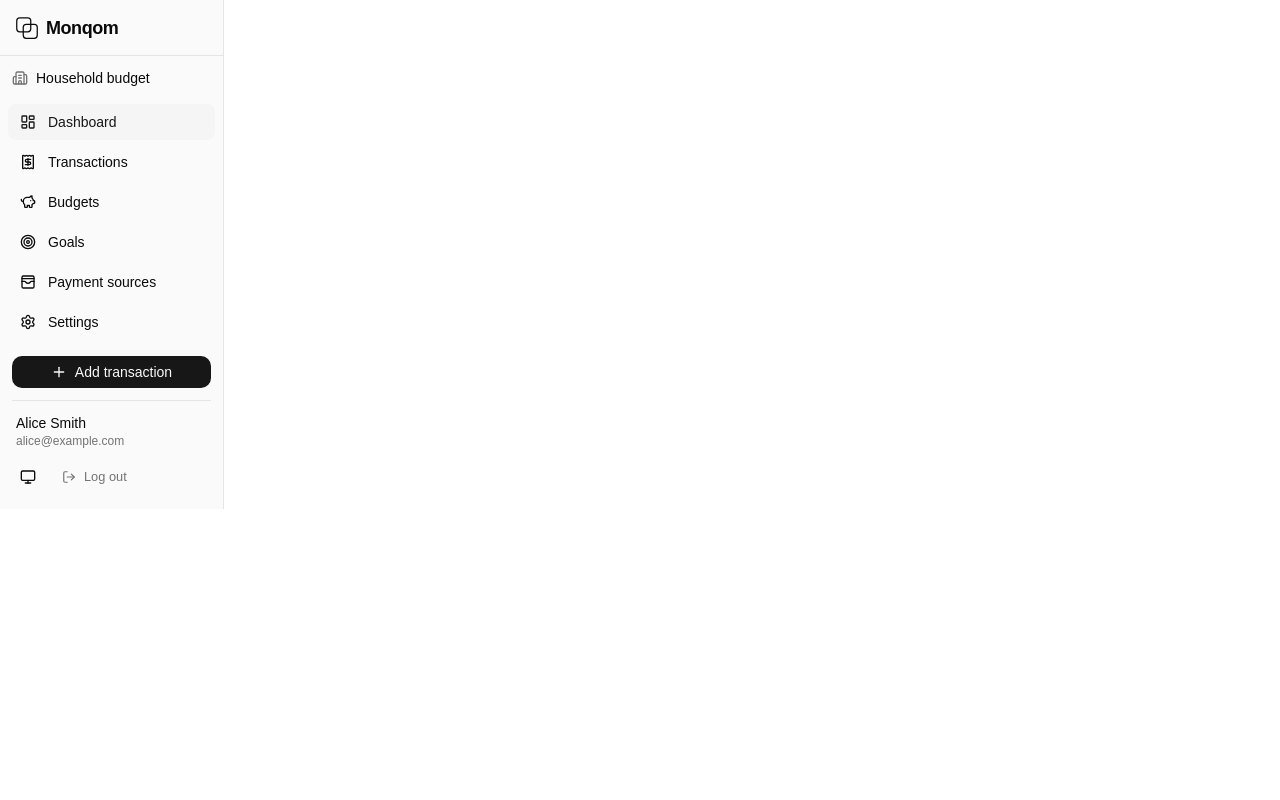
it: Sidebar › keeps the user informed when logout fails
Click the button "Log out": coordinates (132, 477) [52, 463, 211, 491]
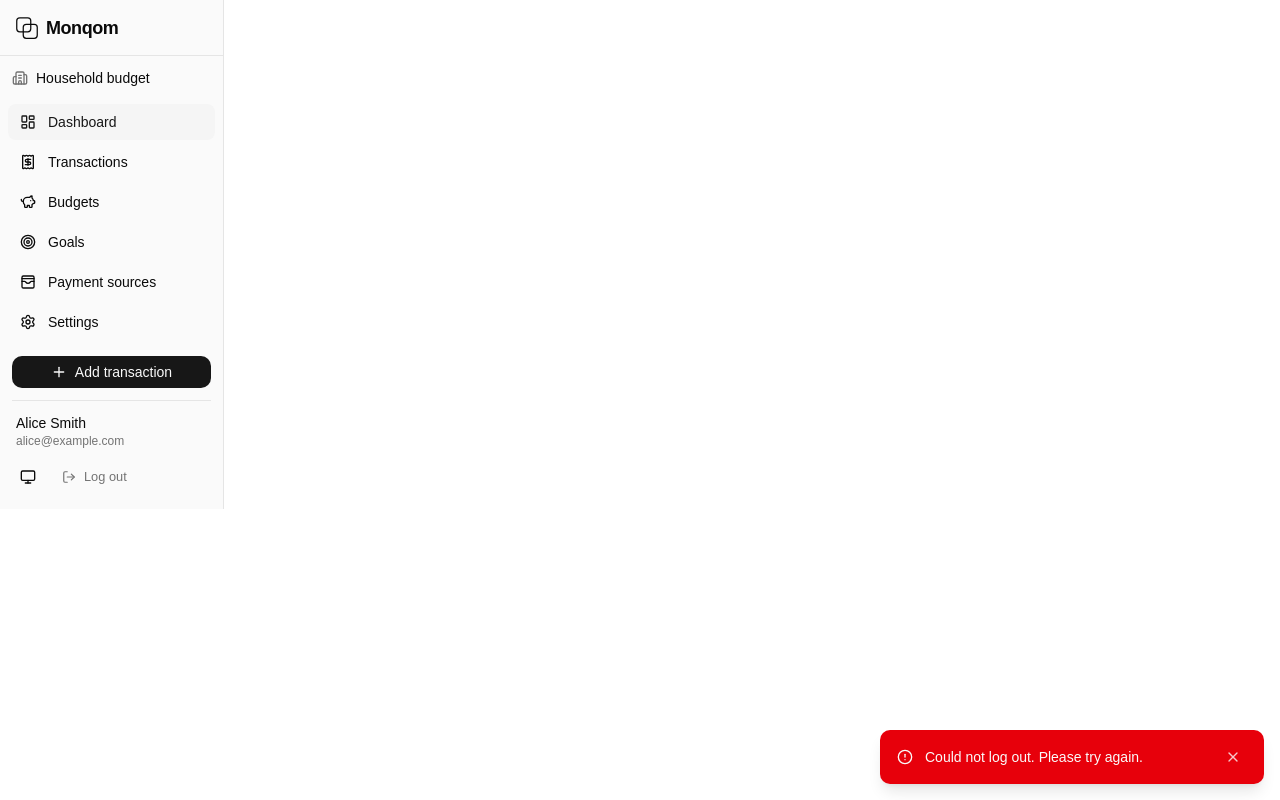
Expected: the text "Alice Smith" is shown, [16, 415, 86, 431]
Expected: the text "Could not log out. Please try again." is shown, [925, 749, 1143, 765]
